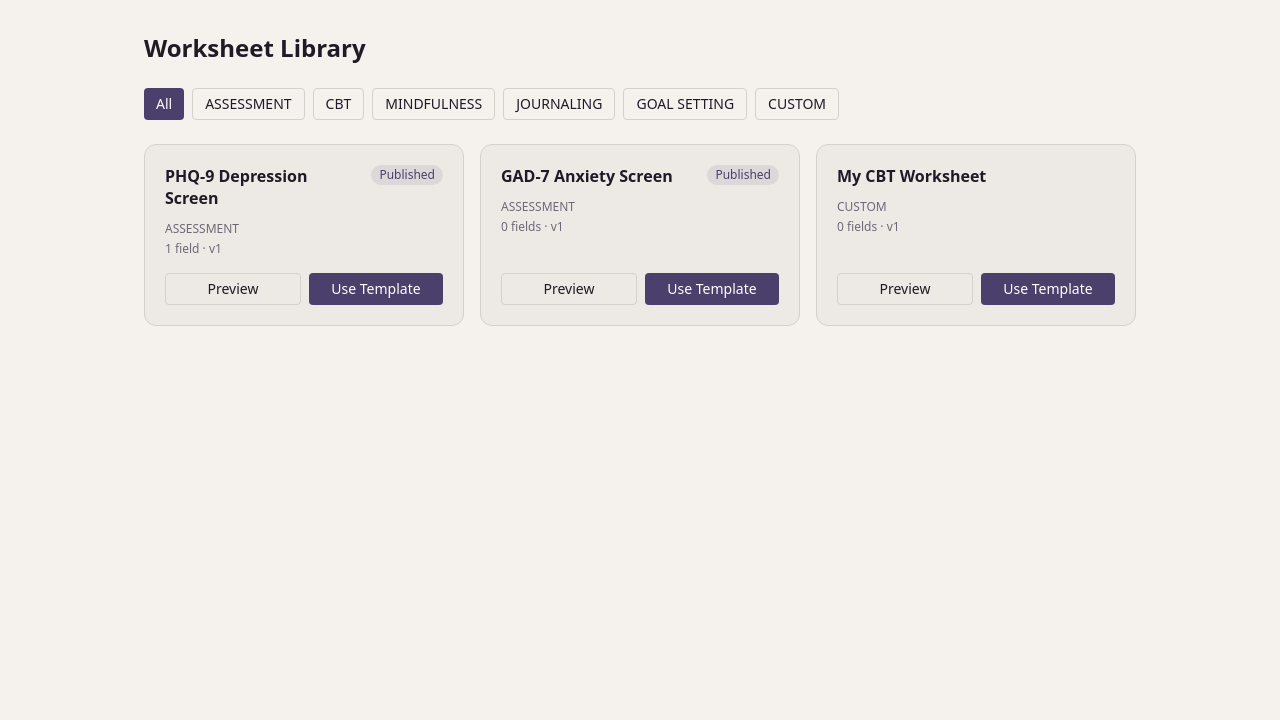
Worksheet library page › clicking "Preview" opens a preview dialog for that template
The width and height of the screenshot is (1280, 720).
Check: the heading "PHQ-9 Depression Screen" is shown, box [165,165,308,209]
What coordinates should you click on to do the following:
click the button "Preview" below "PHQ-9 Depression Screen"
I would click on:
 (233, 289)
Its box is [165,273,301,305].
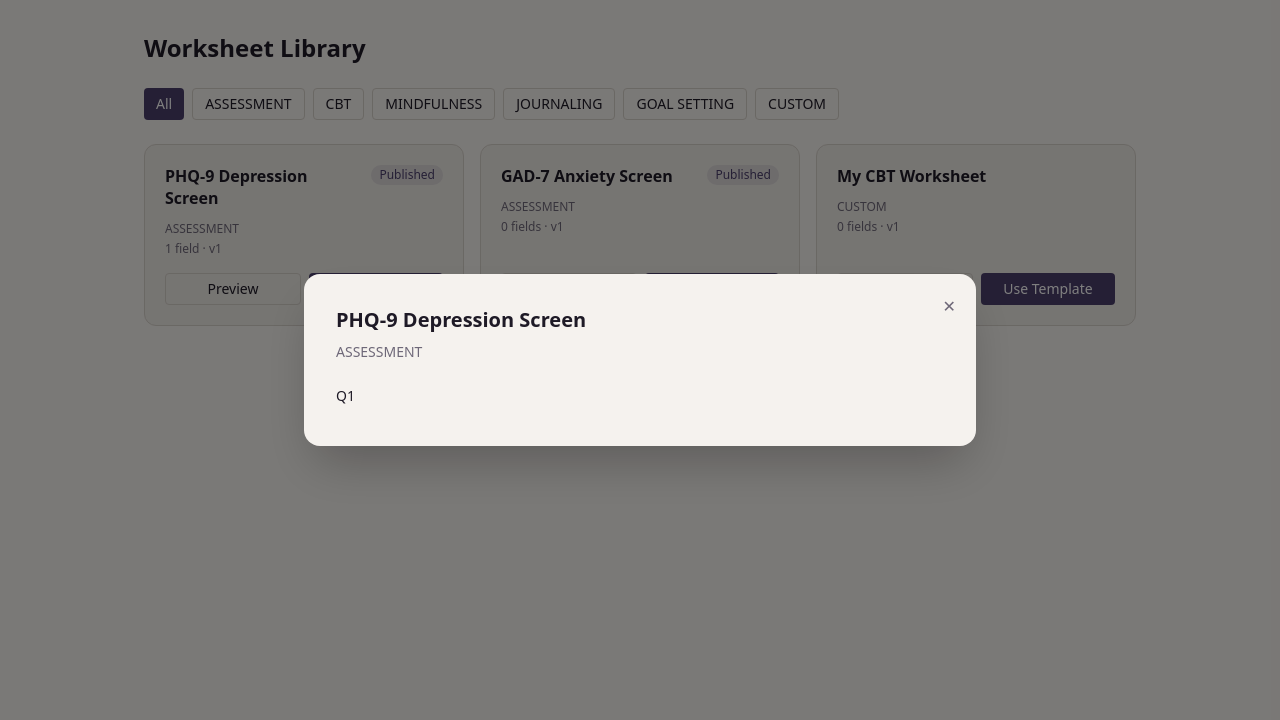
Check: the dialog is shown
Check: the dialog shows "PHQ-9 Depression Screen", box [336,306,586,333]
